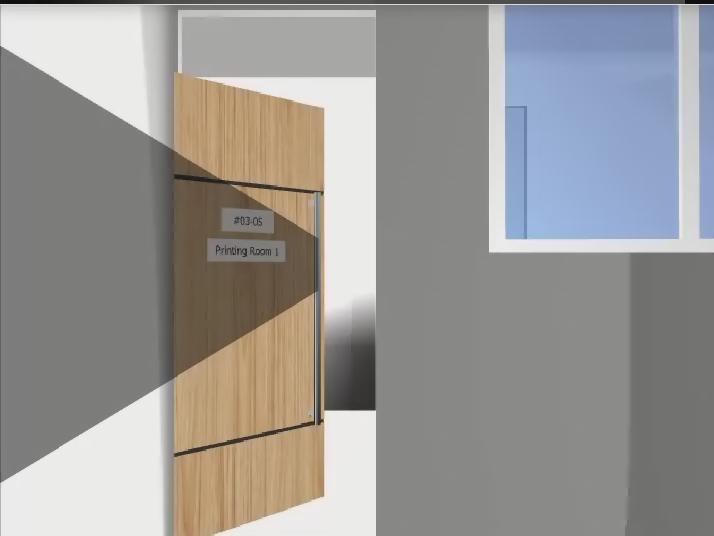door: (173, 73, 325, 536)
